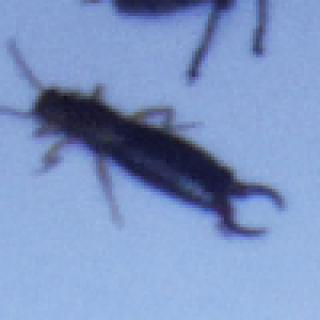earwig: (0, 32, 285, 246)
